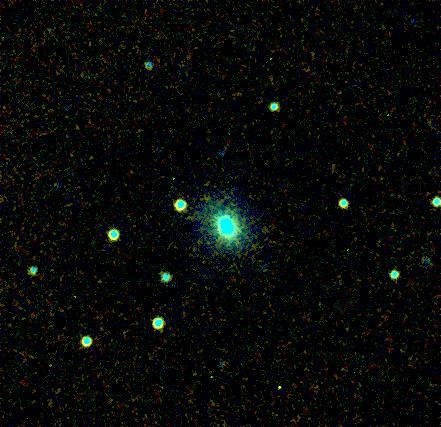star: (267, 371, 297, 401)
